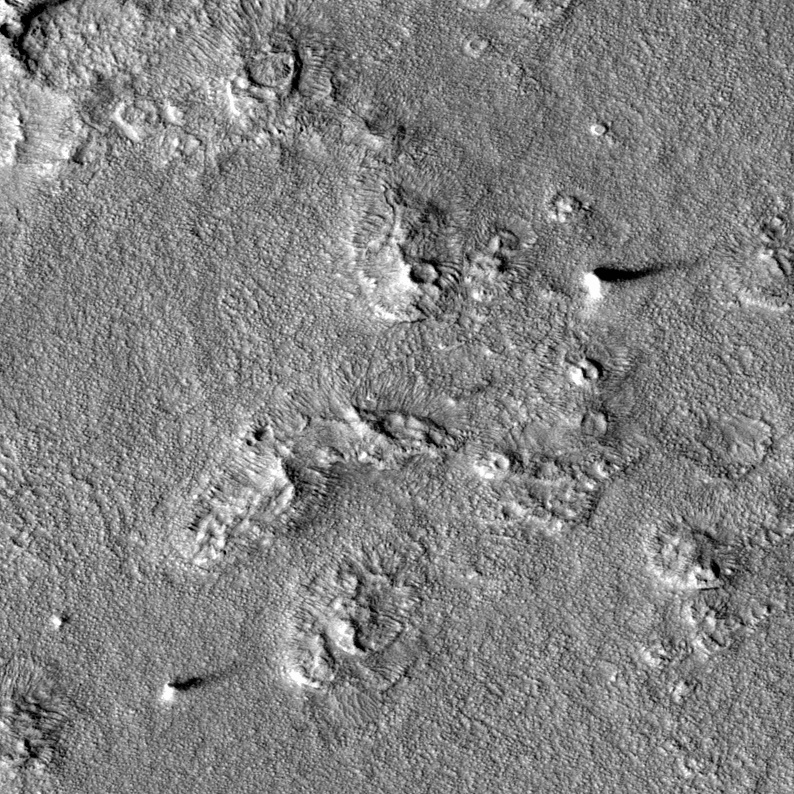dust_devil: (579, 256, 702, 307), (158, 662, 240, 705)
